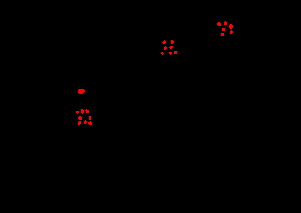Target: (78, 89, 85, 94), (229, 24, 233, 29), (217, 22, 221, 26), (162, 40, 166, 44), (85, 109, 89, 113), (78, 116, 82, 120), (88, 121, 92, 125), (81, 109, 84, 114), (224, 21, 227, 25), (230, 30, 233, 34), (171, 40, 174, 44), (164, 46, 167, 50), (169, 46, 173, 49), (84, 120, 87, 124), (78, 121, 81, 125), (222, 28, 225, 31), (221, 33, 224, 36), (174, 51, 177, 54), (161, 52, 164, 55), (169, 52, 172, 55), (76, 111, 79, 114), (89, 116, 91, 120)
